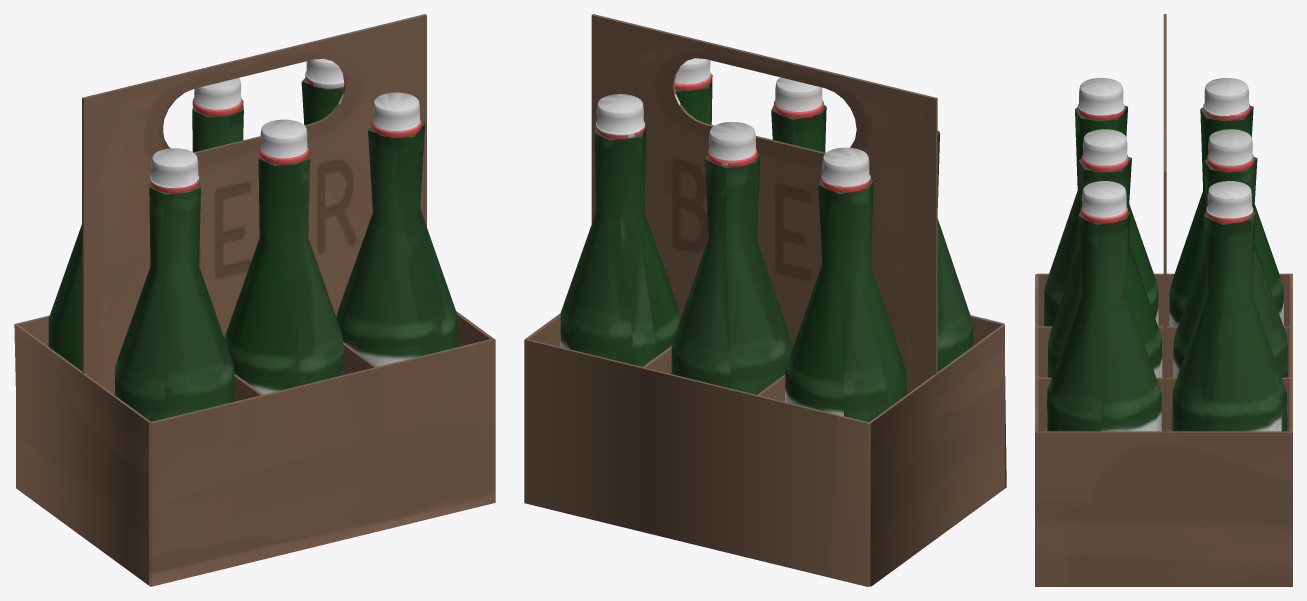
File: Bierflasche.fbx
3 views of the same model, side by side, from view 1: azimuth 30°, elevation 25°; view 2: azimuth 150°, elevation 25°; view 3: azimuth 270°, elevation 25° (orthographic). The views are drawn at different scales.
Visible parts, largest first — view 1: Tragepappe; view 2: Tragepappe; view 3: Tragepappe.
Boxes of the visible parts, <box> form: Tragepappe: <box>14,14,495,586</box>; Tragepappe: <box>524,14,1006,586</box>; Tragepappe: <box>1035,14,1292,586</box>.
Size of the model in its own units: 110 by 133 by 75.
1 material, 1 textured.
